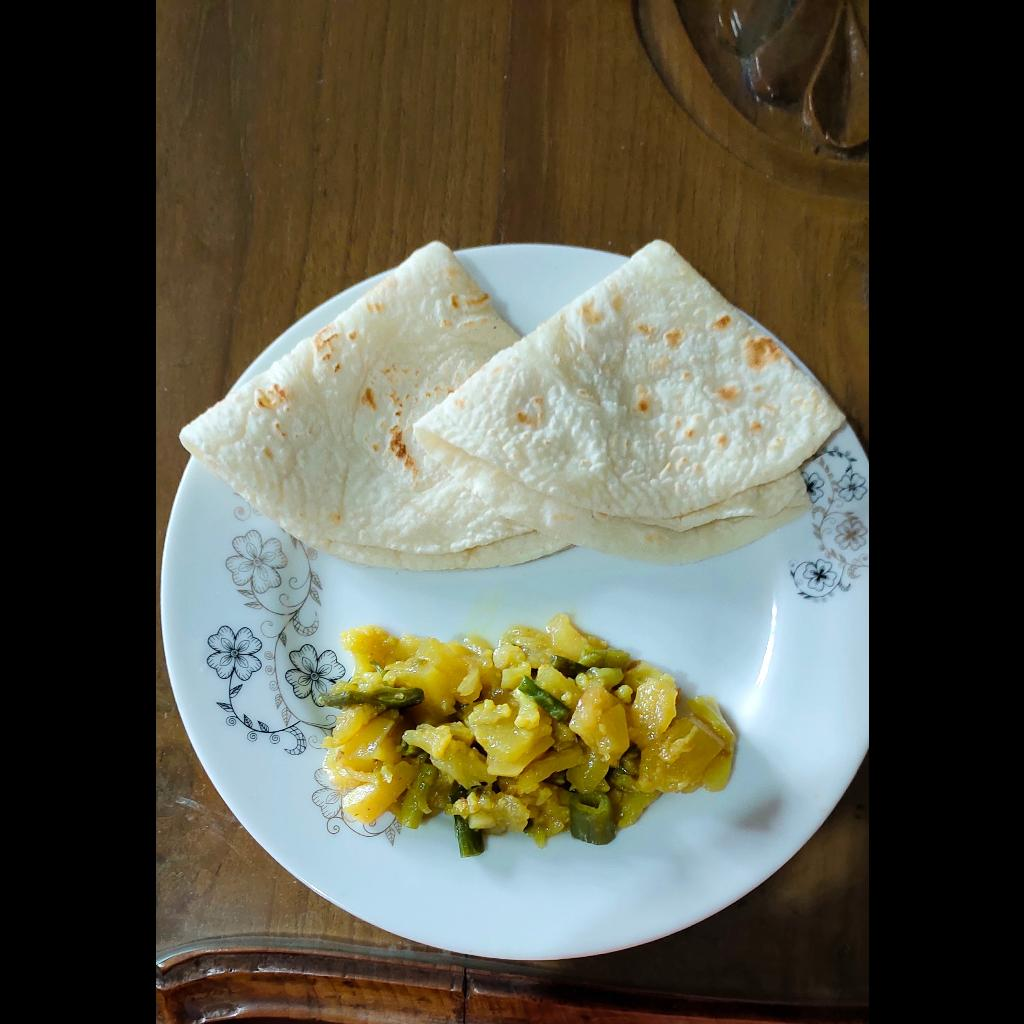ruti: (177, 231, 851, 573)
vegetable: (308, 613, 742, 873)
